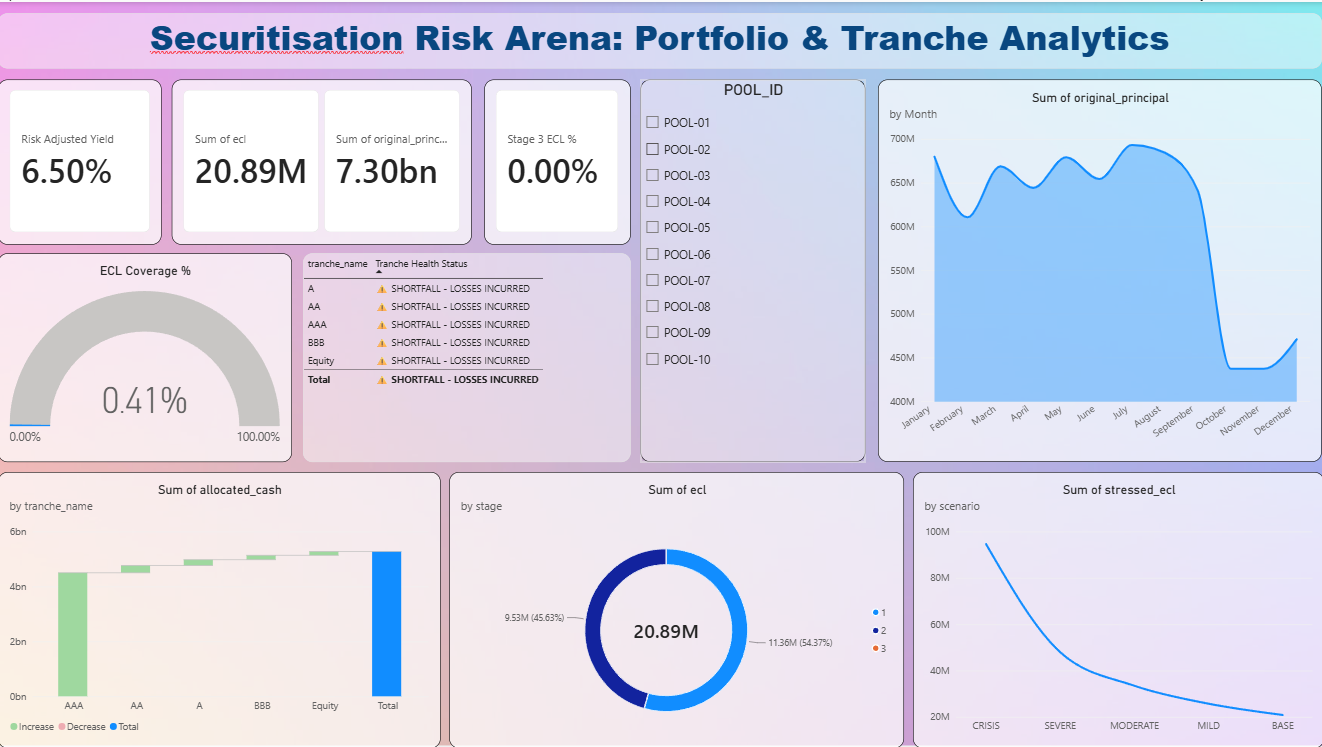

The page's visual inventory and layout, read from the dashboard file:
{"tool":"powerbi","page":{"name":"Page 1","canvas":[1920,1080],"ordinal":0},"visuals":[{"type":"cardVisual","fields":{"Data":["Sum(FactECL.ecl)","Sum(DimLoan.original_principal)"]},"box":[251.5,112.2,434.3,238.9],"z":0},{"type":"donutChart","fields":{"Category":["FactECL.stage"],"Y":["Sum(FactECL.ecl)"]},"box":[653.3,680.4,658.7,399.9],"z":1000},{"type":"waterfallChart","fields":{"Category":["FactWaterfall.tranche_name"],"Y":["Sum(FactWaterfall.allocated_cash)"]},"box":[0,680.4,640.6,399.9],"z":2000},{"type":"lineChart","fields":{"Category":["FactStress.scenario"],"Y":["Sum(FactStress.stressed_ecl)"]},"box":[1324.7,680.4,595.4,399.9],"z":3000},{"type":"gauge","fields":{"Y":["DimCustomers.ECL Coverage %"]},"box":[0,363.7,425.3,302.2],"z":4000},{"type":"cardVisual","fields":{"Data":["DimCustomers.Stage 3 ECL %"]},"box":[704,112.2,211.7,238.9],"z":5000},{"type":"cardVisual","fields":{"Data":["DimCustomers.Risk Adjusted Yield"]},"box":[0,112.2,237.1,238.9],"z":6000},{"type":"tableEx","fields":{"Values":["DimTranche.tranche_name","DimCustomers.Tranche Health Status"]},"box":[441.6,363.7,474.1,302.2],"z":7000},{"type":"textbox","box":[0,16.3,1916.4,79.6],"z":8000},{"type":"slicer","title":"POOL_ID","fields":{"Values":["DimLoan.pool_id"]},"box":[930.2,112.2,325.7,553.8],"z":8001},{"type":"areaChart","fields":{"Category":["DimLoan.origination_date.Variation.Date Hierarchy.Month","DimLoan.origination_date.Variation.Date Hierarchy.Day"],"Y":["Sum(DimLoan.original_principal)"]},"box":[1274,112.2,642.4,553.8],"z":8002}]}

Visuals, with their boxes in screenshot pixels (x1, y1, x2, y2), scaled from the page's 1920x1080 canvas onto the 1322x747 screenshot:
cardVisual - Sum(FactECL.ecl) x Sum(DimLoan.original_principal): (x1=173, y1=78, x2=472, y2=243)
donutChart - FactECL.stage x Sum(FactECL.ecl): (x1=450, y1=471, x2=903, y2=746)
waterfallChart - FactWaterfall.tranche_name x Sum(FactWaterfall.allocated_cash): (x1=0, y1=471, x2=441, y2=746)
lineChart - FactStress.scenario x Sum(FactStress.stressed_ecl): (x1=912, y1=471, x2=1321, y2=746)
gauge - DimCustomers.ECL Coverage %: (x1=0, y1=252, x2=293, y2=461)
cardVisual - DimCustomers.Stage 3 ECL %: (x1=485, y1=78, x2=630, y2=243)
cardVisual - DimCustomers.Risk Adjusted Yield: (x1=0, y1=78, x2=163, y2=243)
tableEx - DimTranche.tranche_name x DimCustomers.Tranche Health Status: (x1=304, y1=252, x2=630, y2=461)
textbox: (x1=0, y1=11, x2=1320, y2=66)
"POOL_ID" slicer: (x1=640, y1=78, x2=865, y2=461)
areaChart - DimLoan.origination_date.Variation.Date Hierarchy.Month x DimLoan.origination_date.Variation.Date Hierarchy.Day: (x1=877, y1=78, x2=1320, y2=461)
